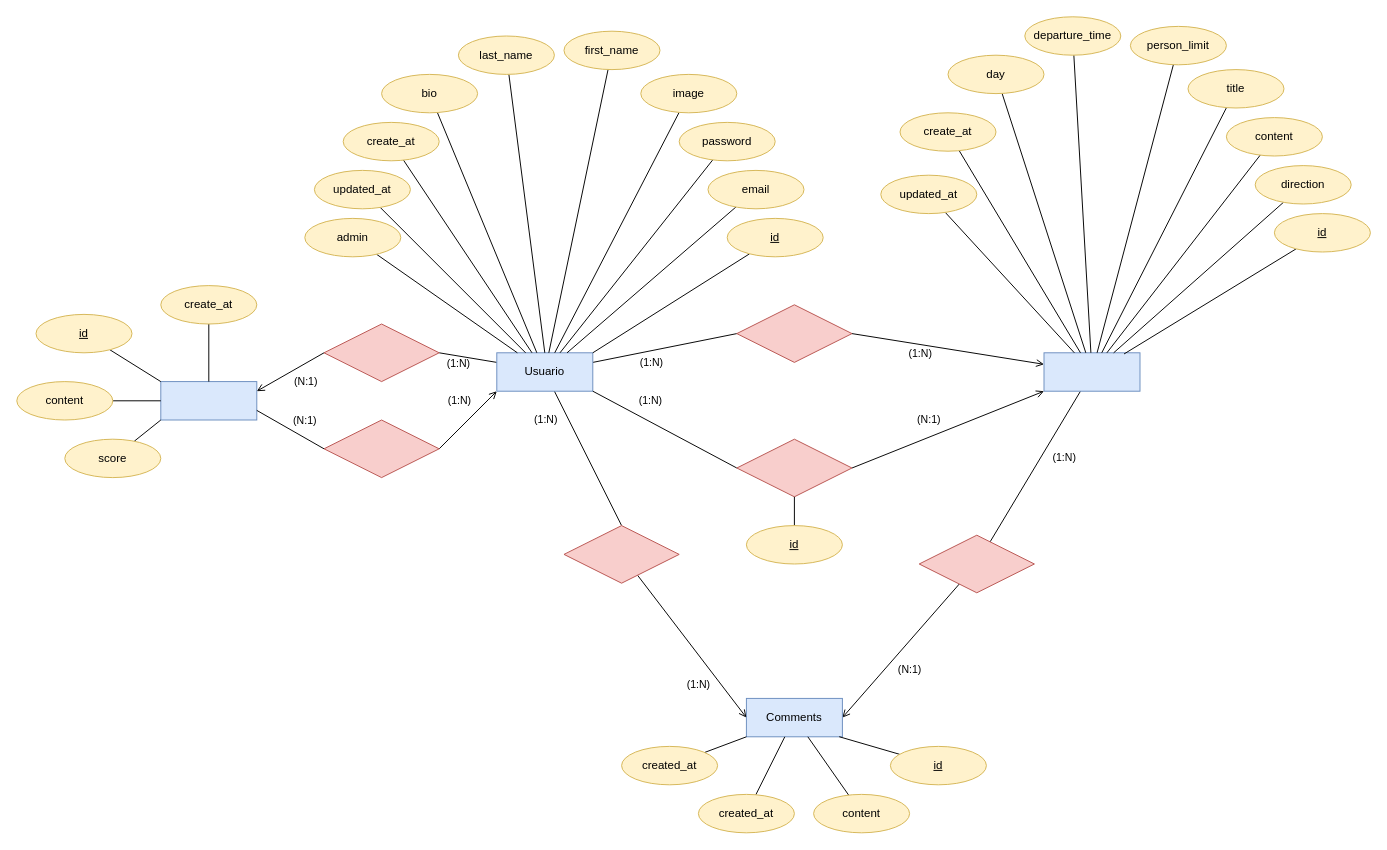
This 1387x850 diagram has some shape labels left out. The shapes that lost their labels are listed below. From the top down, each one's box as (x1, y1, x2, y2) in pixels, then its label:
(323, 323, 439, 382): Escribe
(736, 304, 852, 362): Crea
(1043, 352, 1140, 391): publications
(160, 381, 257, 420): Review
(323, 419, 439, 478): Recibe
(736, 438, 852, 497): Solicita
(563, 525, 679, 583): Escriben
(918, 534, 1034, 593): Tienen
